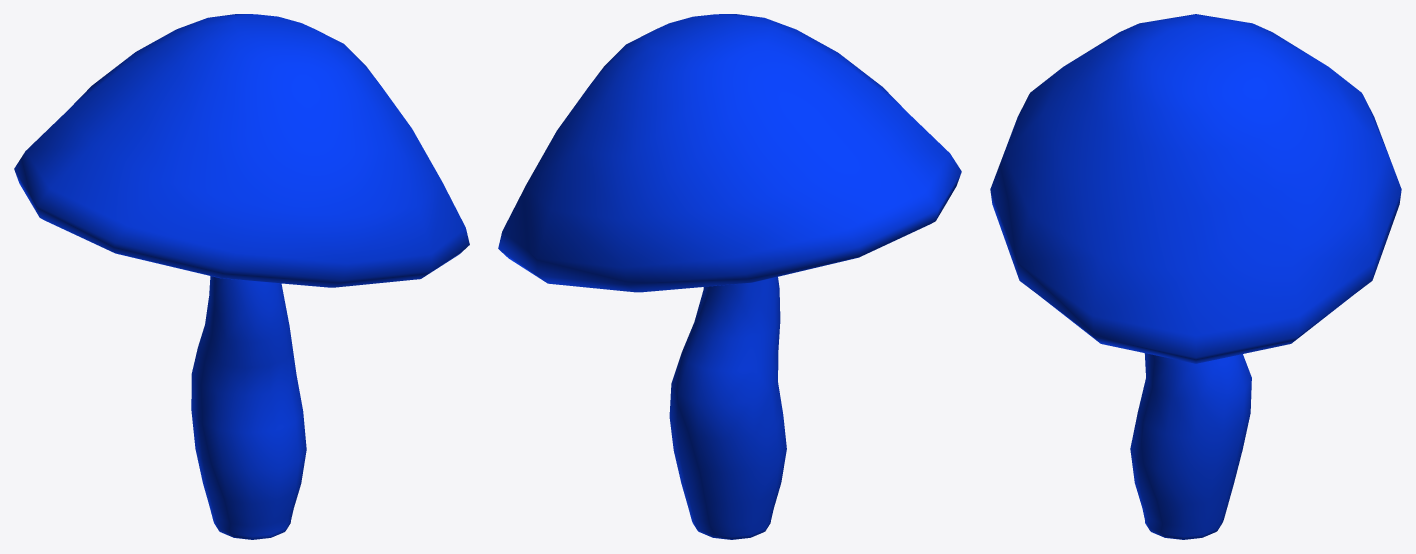
The model's file is SM_FP_Mushroom.fbx.
3 views of the same model, side by side, from view 1: azimuth 30°, elevation 25°; view 2: azimuth 150°, elevation 25°; view 3: azimuth 270°, elevation 25° (orthographic).
Parts seen in each view (by area): view 1: SM_FP_Mushroom; view 2: SM_FP_Mushroom; view 3: SM_FP_Mushroom.
Boxes of the visible parts, box(x1,y1,x2,y2) form: SM_FP_Mushroom: box(14, 14, 469, 539); SM_FP_Mushroom: box(498, 14, 961, 539); SM_FP_Mushroom: box(990, 14, 1401, 539).
Size of the model in its own units: 21.03 by 24.03 by 18.09.
